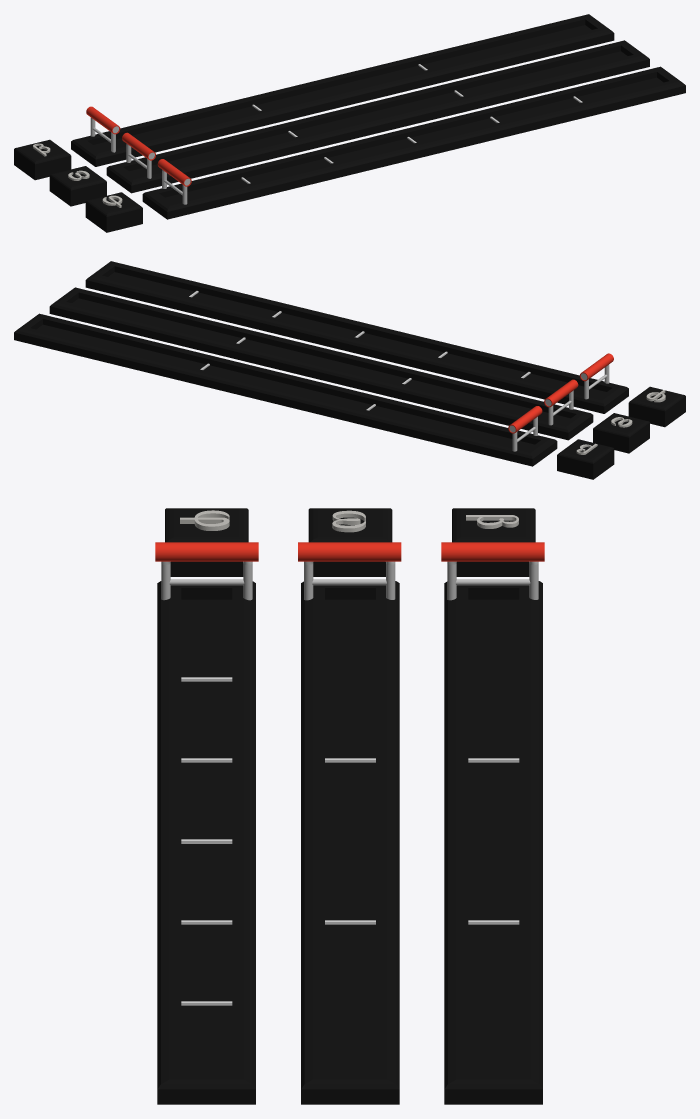
Rendered from switch slider2.fbx.
The picture shows the model from 3 angles, top to bottom: view 1: azimuth 30°, elevation 25°; view 2: azimuth 150°, elevation 25°; view 3: azimuth 270°, elevation 25°; orthographic projection. The views are drawn at different scales.
Parts seen in each view (by area): view 1: Cube.007, Cube, Cube.004, Cube.009, Cube.003, Cube.006, Cylinder.003, Cylinder.002, Cylinder.001; view 2: Cube, Cube.004, Cube.007, Cube.003, Cube.006, Cube.009, Cylinder.001, Cylinder.002, Cylinder.003; view 3: Cube, Cube.004, Cube.007, Cube.003, Cube.006, Cube.009, Cylinder.003, Cylinder.001, Cylinder.002, Cube.008.
Boxes of the visible parts, box(x1,y1,x2,y2) form: Cube.007: box(142, 66, 685, 219); Cube: box(71, 14, 614, 166); Cube.004: box(106, 40, 649, 193); Cube.009: box(85, 192, 142, 232); Cube.003: box(14, 139, 71, 180); Cube.006: box(49, 166, 106, 206); Cylinder.003: box(157, 159, 191, 204); Cylinder.002: box(86, 106, 120, 152); Cylinder.001: box(122, 132, 155, 178); Cube: box(14, 313, 557, 466); Cube.004: box(49, 287, 593, 440); Cube.007: box(85, 261, 628, 413); Cube.003: box(557, 439, 614, 479); Cube.006: box(593, 413, 649, 453); Cube.009: box(628, 386, 685, 427); Cylinder.001: box(544, 379, 578, 425); Cylinder.002: box(508, 406, 542, 451); Cylinder.003: box(579, 353, 613, 399); Cube: box(444, 581, 542, 1104); Cube.004: box(301, 581, 399, 1104); Cube.007: box(157, 581, 255, 1104); Cube.003: box(452, 508, 535, 576); Cube.006: box(308, 508, 392, 576); Cube.009: box(165, 508, 248, 576); Cylinder.003: box(155, 542, 258, 600); Cylinder.001: box(298, 542, 401, 600); Cylinder.002: box(441, 542, 544, 600); Cube.008: box(181, 677, 232, 1005).
Size of the model in its own units: 662 by 41.1 by 193.
